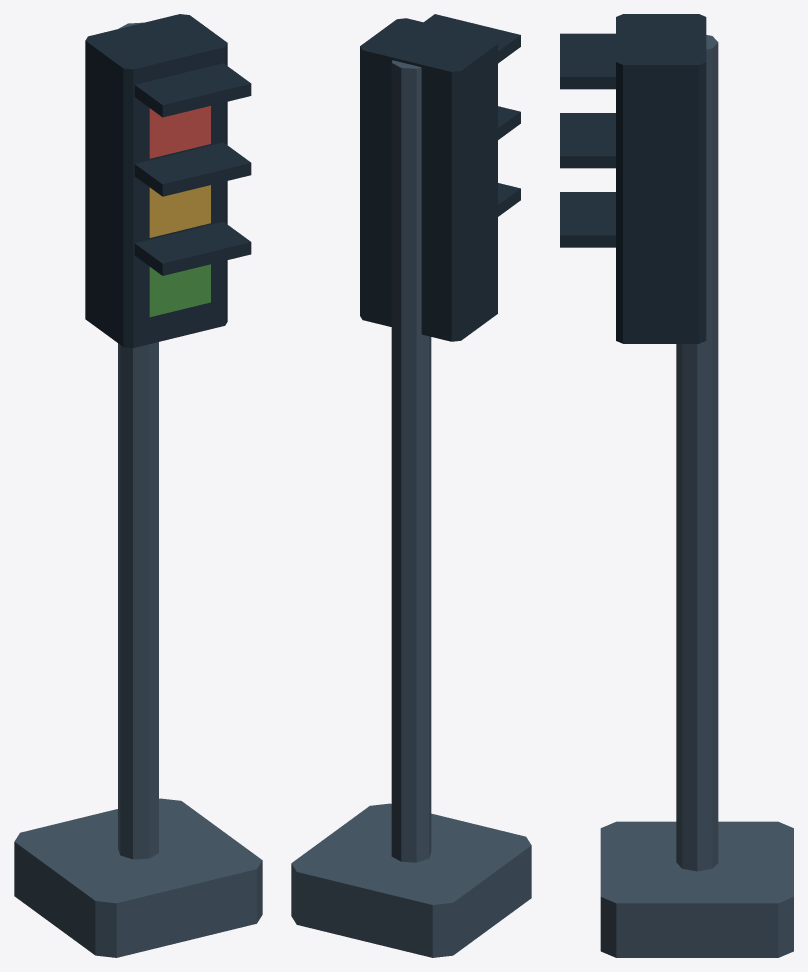
File: traffic-light.glb
The picture shows the model from 3 angles, left to right: view 1: azimuth 30°, elevation 25°; view 2: azimuth 150°, elevation 25°; view 3: azimuth 270°, elevation 25°; orthographic projection. The views are drawn at different scales.
Parts seen in each view (by area): view 1: asset_root; view 2: asset_root; view 3: asset_root.
Part boxes in pixels (x1,y1,x2,y2): asset_root: (14,14,262,957); asset_root: (291,14,531,957); asset_root: (560,14,793,957).
Size of the model in its own units: 0.64 by 3.21 by 0.775.
